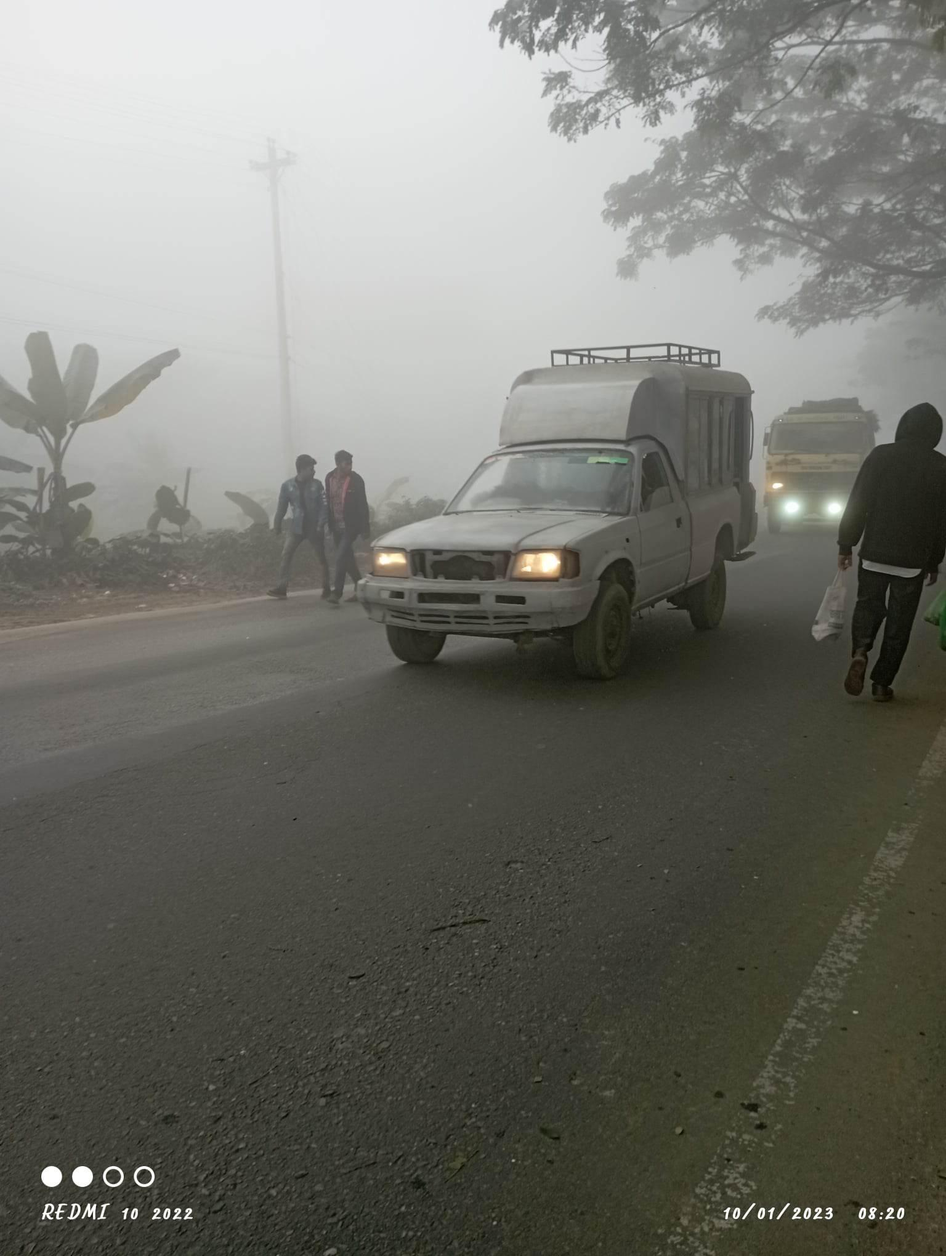Car: (354, 313, 765, 685)
Truck: (754, 389, 900, 557)
